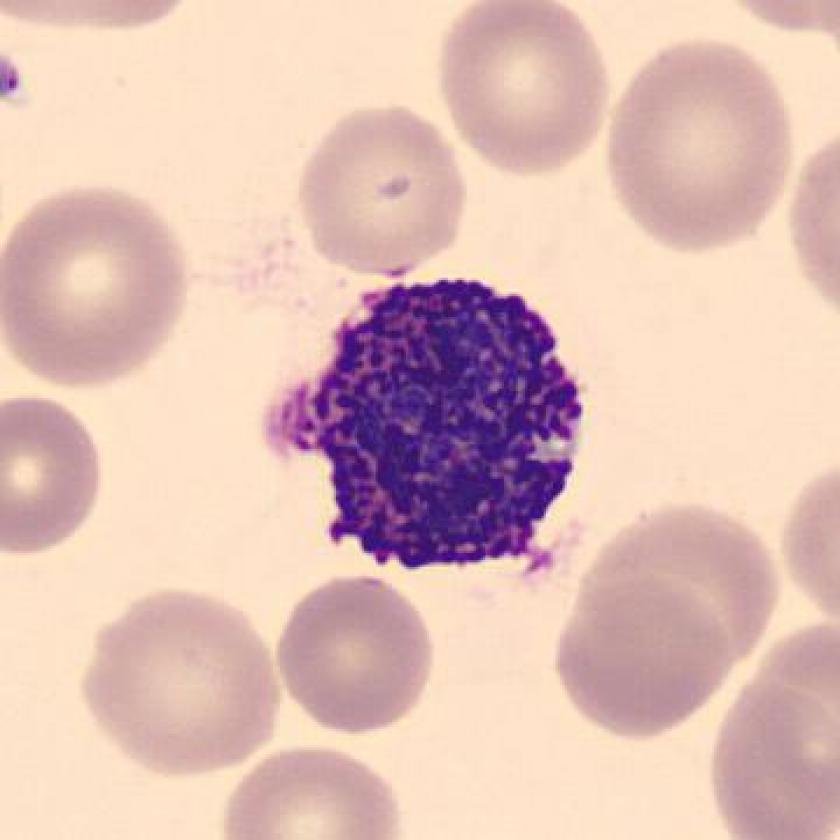basophil: (297, 270, 601, 580)
